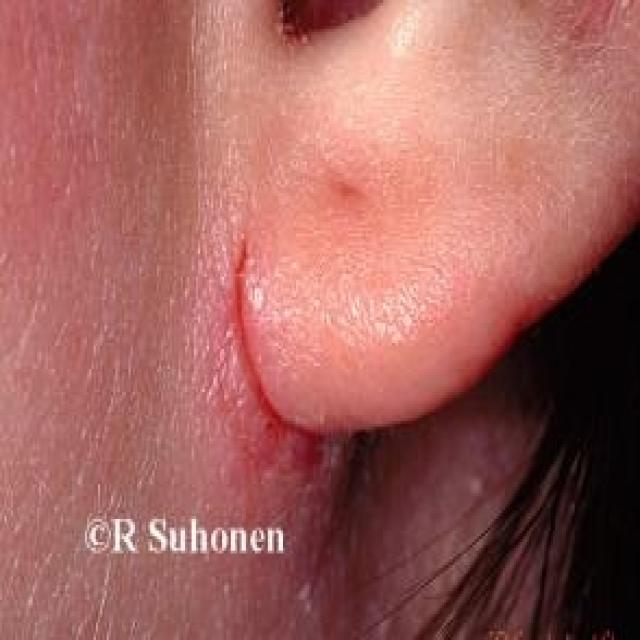Eczema: (174, 193, 338, 619)
